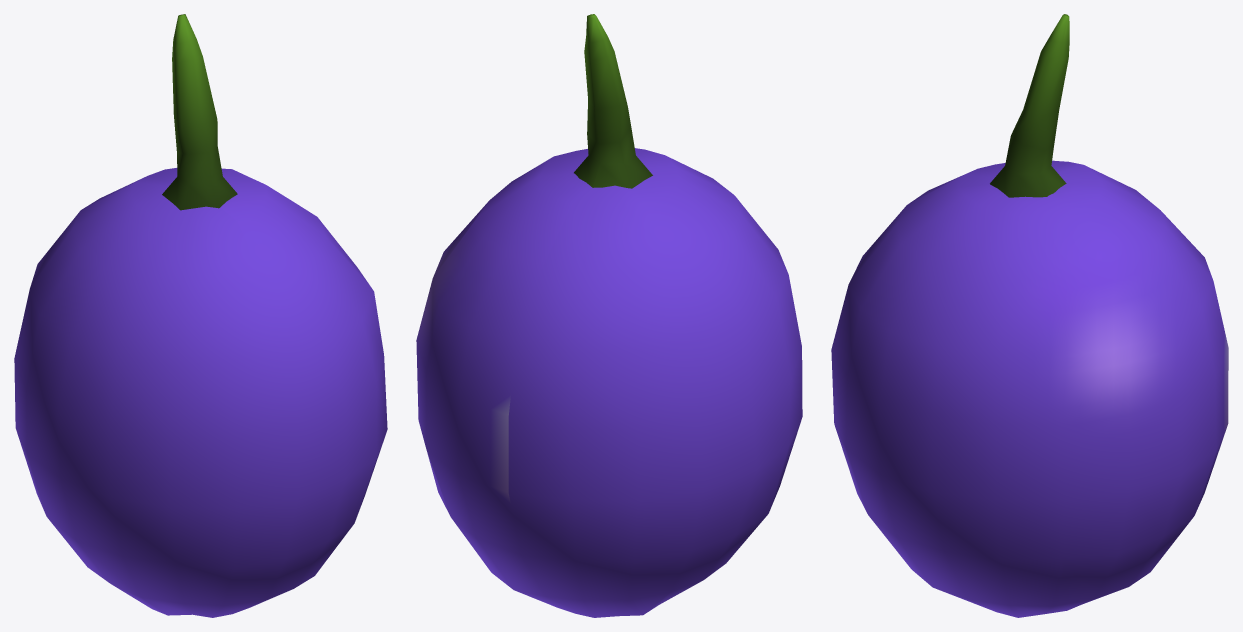
The model's file is Grape_2.fbx.
3 views of the same model, side by side, from view 1: azimuth 30°, elevation 25°; view 2: azimuth 150°, elevation 25°; view 3: azimuth 270°, elevation 25° (orthographic). The views are drawn at different scales.
Visible parts, largest first — view 1: Sphere.002; view 2: Sphere.002; view 3: Sphere.002.
Part boxes in pixels (bbox=[...]): Sphere.002: bbox=[14, 14, 387, 617]; Sphere.002: bbox=[416, 14, 802, 617]; Sphere.002: bbox=[831, 14, 1228, 617].
Size of the model in its own units: 13.35 by 23.15 by 14.23.
